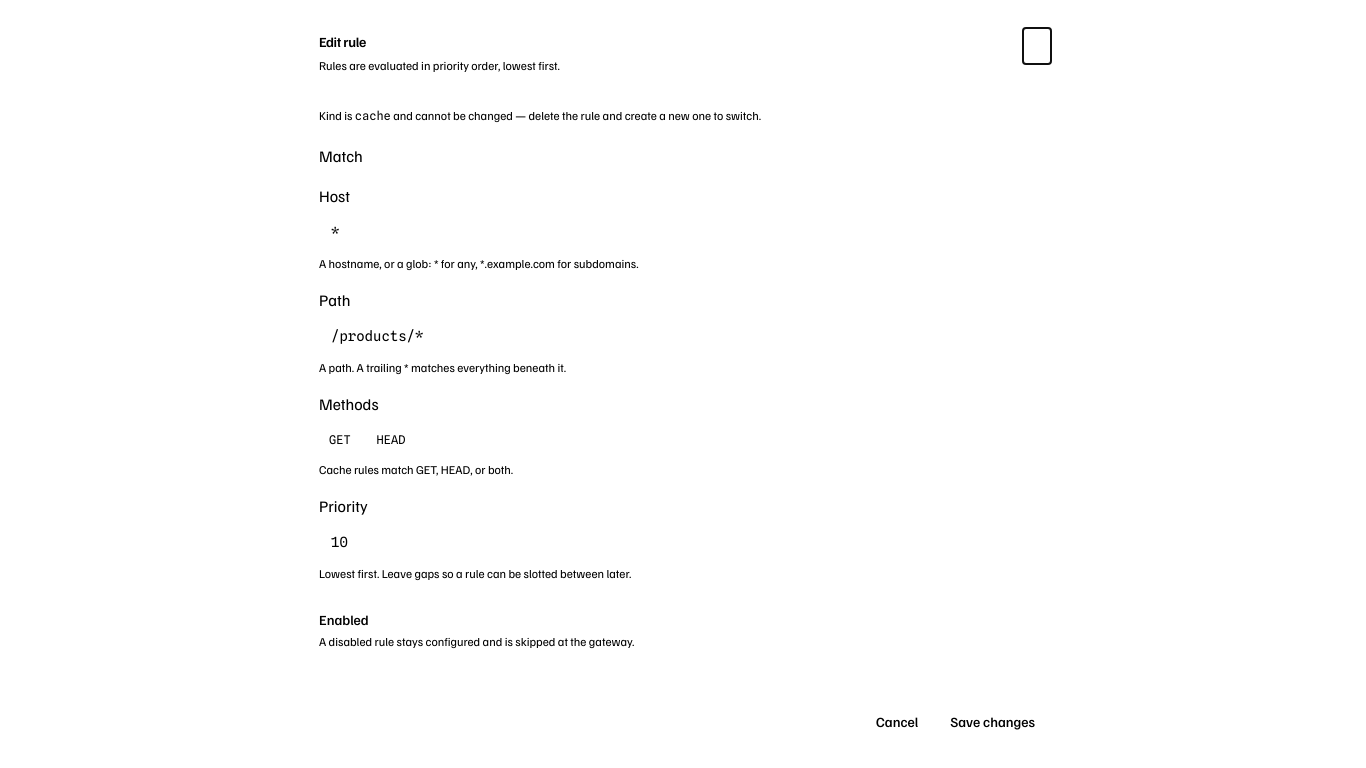
Test: refuses a CLI-authored cache rule with no match methods until reviewed
The width and height of the screenshot is (1366, 768).
Click the button "Save changes" at (993, 722), box [938, 706, 1047, 738]
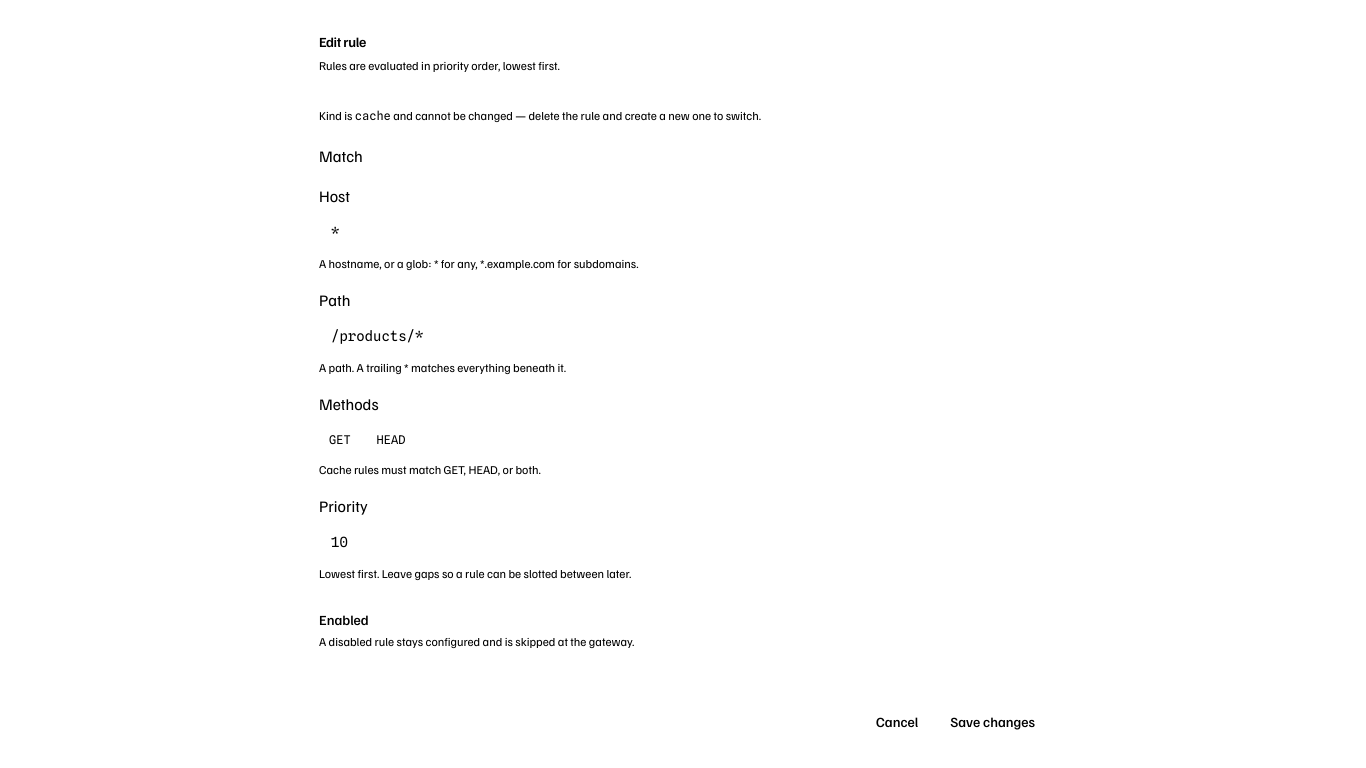
Expected: the message shows "Cache rules must match GET, HEAD", [319, 462, 541, 476]
